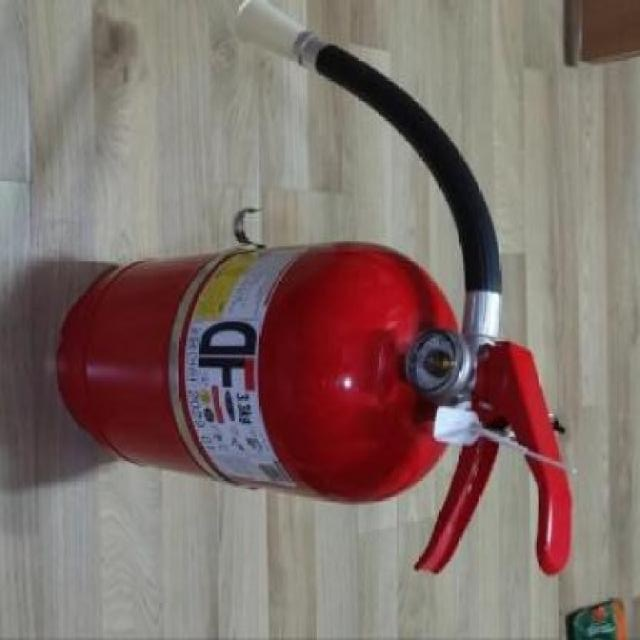fire extinguisher: (57, 0, 575, 578)
